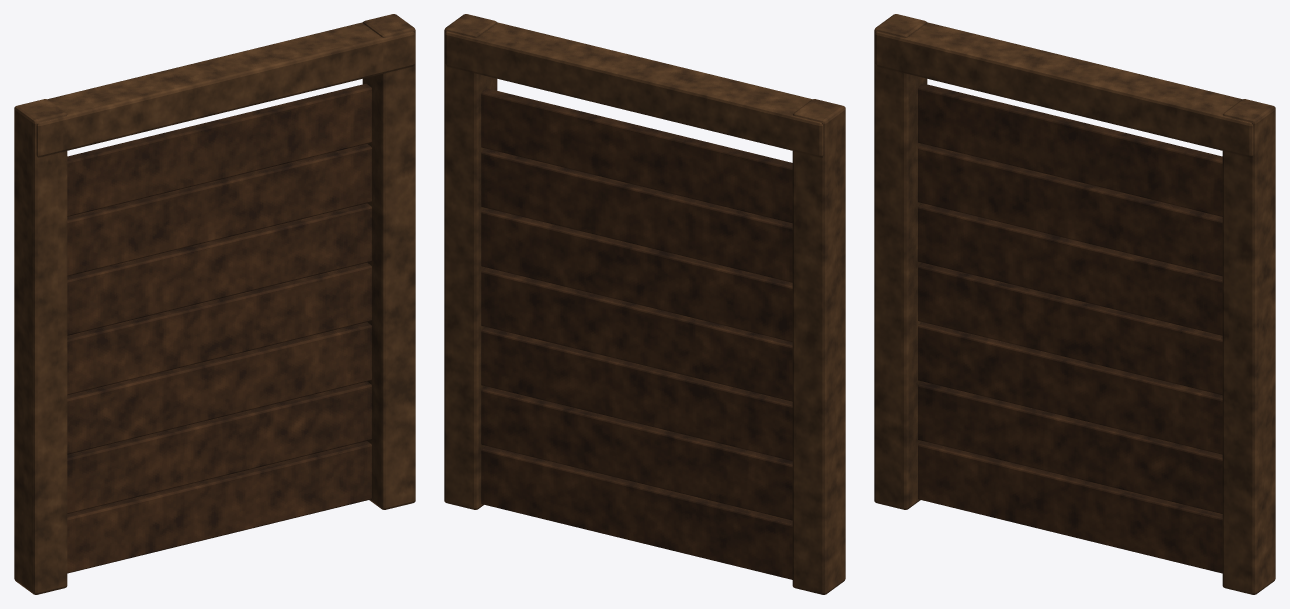
The model's file is room_wall_mine.glb.
3 renders of one model, left to right at view 1: azimuth 30°, elevation 25°; view 2: azimuth 150°, elevation 25°; view 3: azimuth 330°, elevation 25°, orthographic.
Visible parts, largest first — view 1: room_wall_mine; view 2: room_wall_mine; view 3: room_wall_mine.
Boxes of the visible parts, x1,y1,x2,y2 form: room_wall_mine: (14,14,415,594); room_wall_mine: (444,14,845,594); room_wall_mine: (874,14,1275,594).
Size of the model in its own units: 2.02 by 2.4 by 0.22.
2 materials, 2 textured.
